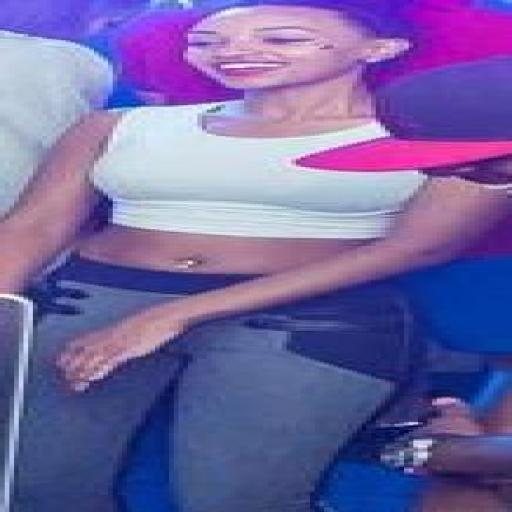person: (0, 0, 507, 511), (306, 58, 511, 194), (0, 2, 112, 213)
